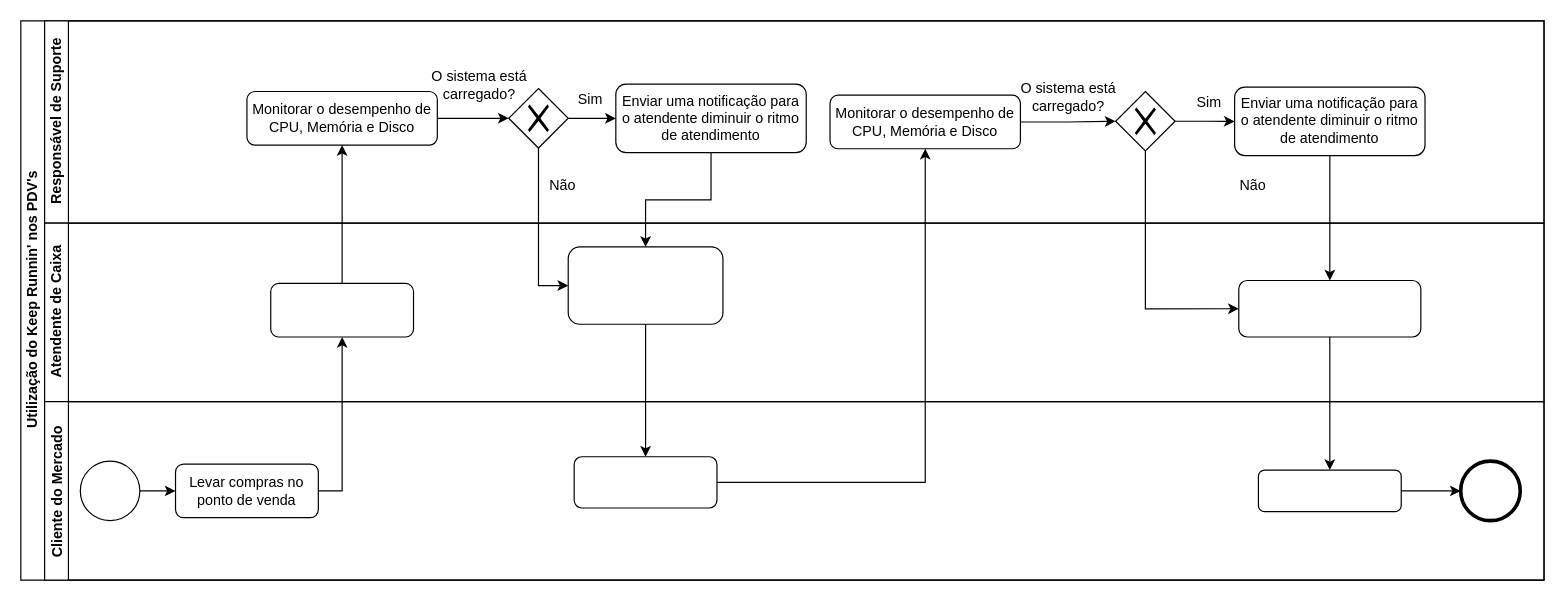
The diagram is 1565 pixels wide and 601 high, and some of its shapes have lost their labels. The shapes that lost their labels are listed below. From the top down, each one's centre as x and y in pixels, then its label:
At [645,285]: "Solicitar o pagamento".
At [342,309]: "Registrar compra no Ponto de Venda".
At [1329,308]: "Emitir nota e entregar compras para o cliente".
At [645,482]: "Realizar pagamento".
At [1329,490]: "Receber compras".
